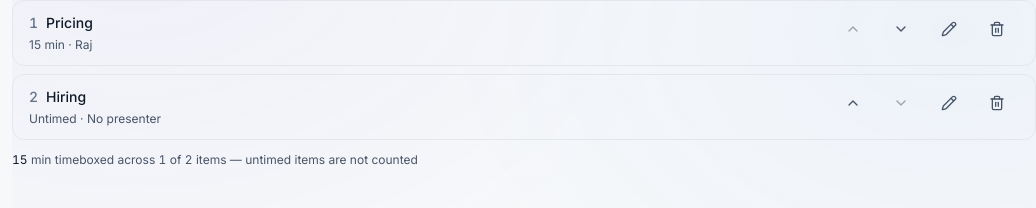
Test: explains a refused write: {"name":"ApiError","status":409,"code":"stale_resource"}
Click the button named "Move \"Pricing\" down" at (901, 29), box [879, 13, 923, 45]
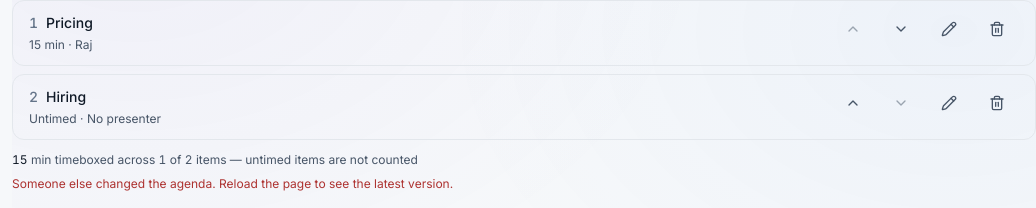
Result: the message shows "Someone else changed the agenda" at [12, 176, 453, 191]
